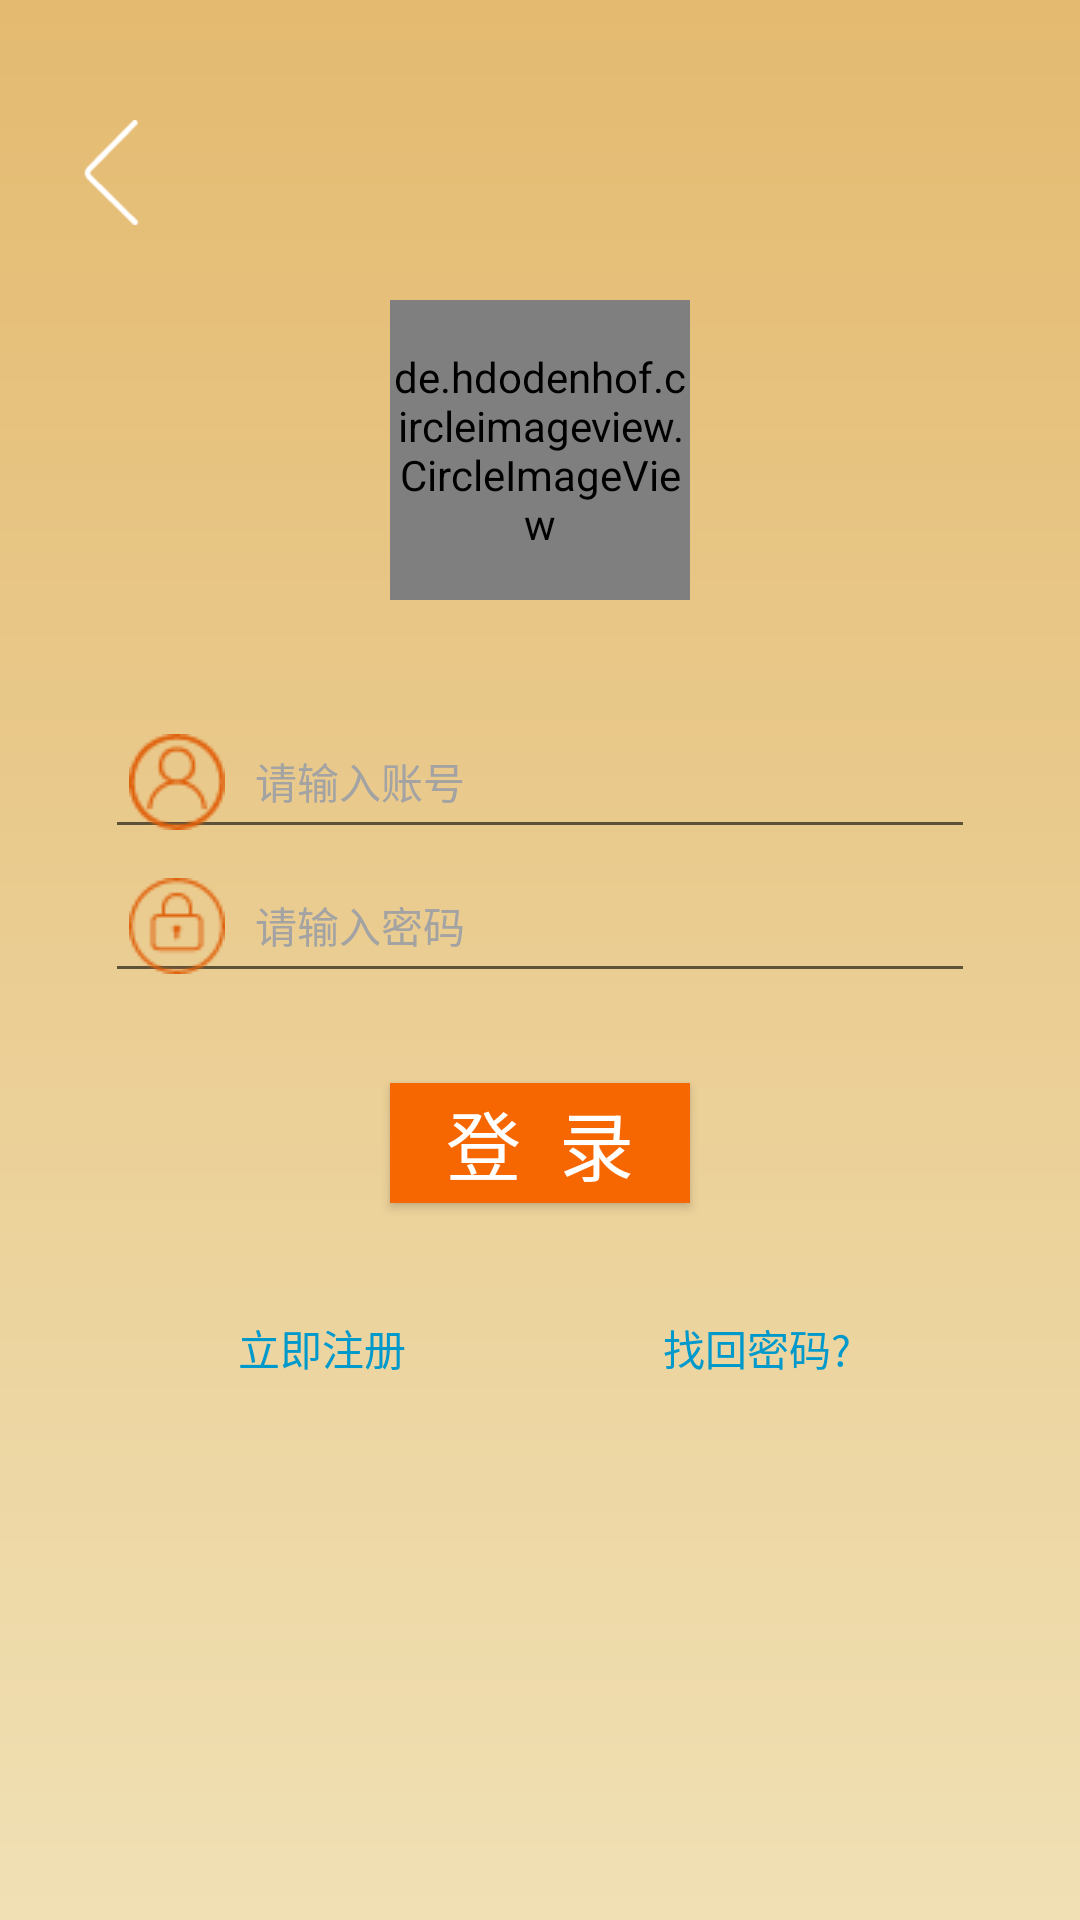

Icon click points for this 1080 x 1920 phone screenshot, format (x,y):
back: (111,172)
